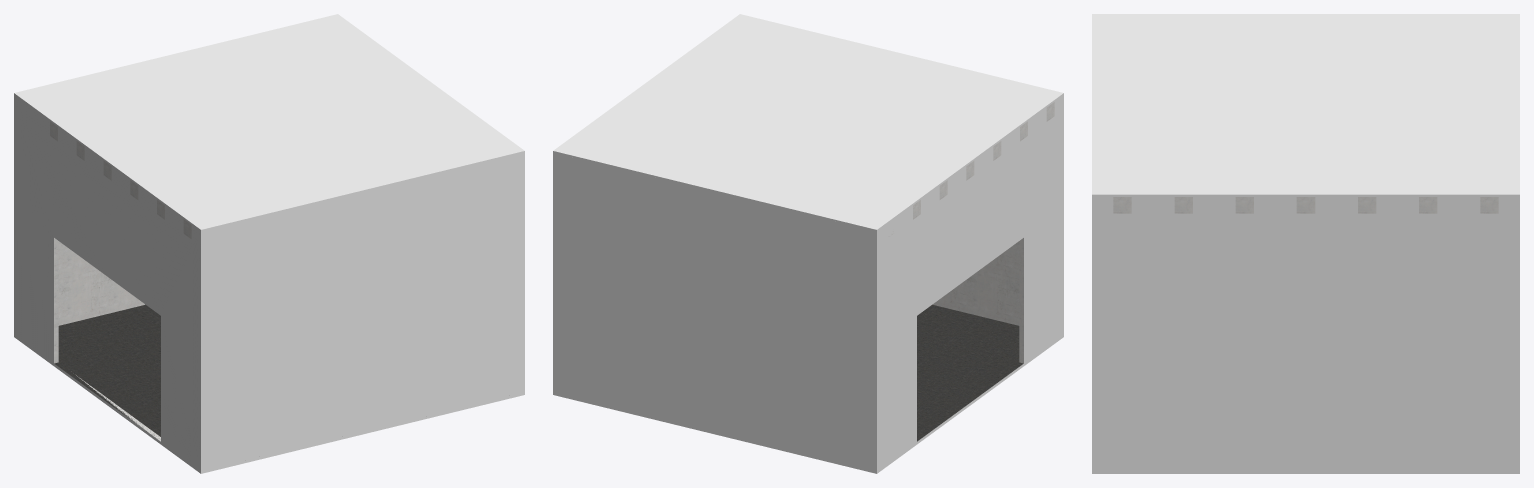
The model's file is 173_opt_prt3.fbx.
3 renders of one model, left to right at view 1: azimuth 30°, elevation 25°; view 2: azimuth 150°, elevation 25°; view 3: azimuth 270°, elevation 25°, orthographic. The views are drawn at different scales.
Parts seen in each view (by area): view 1: node_id14, node_id11, node_id20 (×2), node_id26 (×2), node_id17, node_id23; view 2: node_id17, node_id11, node_id20 (×2), node_id26, node_id14 (×2); view 3: node_id23, node_id11, node_id17, node_id26.
Boxes of the visible parts, <box> form: node_id14: <box>198,154,520,473</box>; node_id11: <box>14,14,524,231</box>; node_id20 (×2): <box>14,95,198,471</box>; node_id26 (×2): <box>54,304,524,472</box>; node_id17: <box>58,241,144,325</box>; node_id23: <box>520,153,524,395</box>; node_id17: <box>553,153,872,472</box>; node_id11: <box>553,14,1063,231</box>; node_id20 (×2): <box>872,97,1061,473</box>; node_id26: <box>917,304,1023,441</box>; node_id14 (×2): <box>933,95,1063,338</box>; node_id23: <box>1092,197,1513,473</box>; node_id11: <box>1092,14,1519,196</box>; node_id17: <box>1513,197,1519,473</box>; node_id26: <box>1092,470,1519,472</box>.
Size of the model in its own units: 0.512 by 0.3686 by 0.512.
19 materials, 13 textured.
